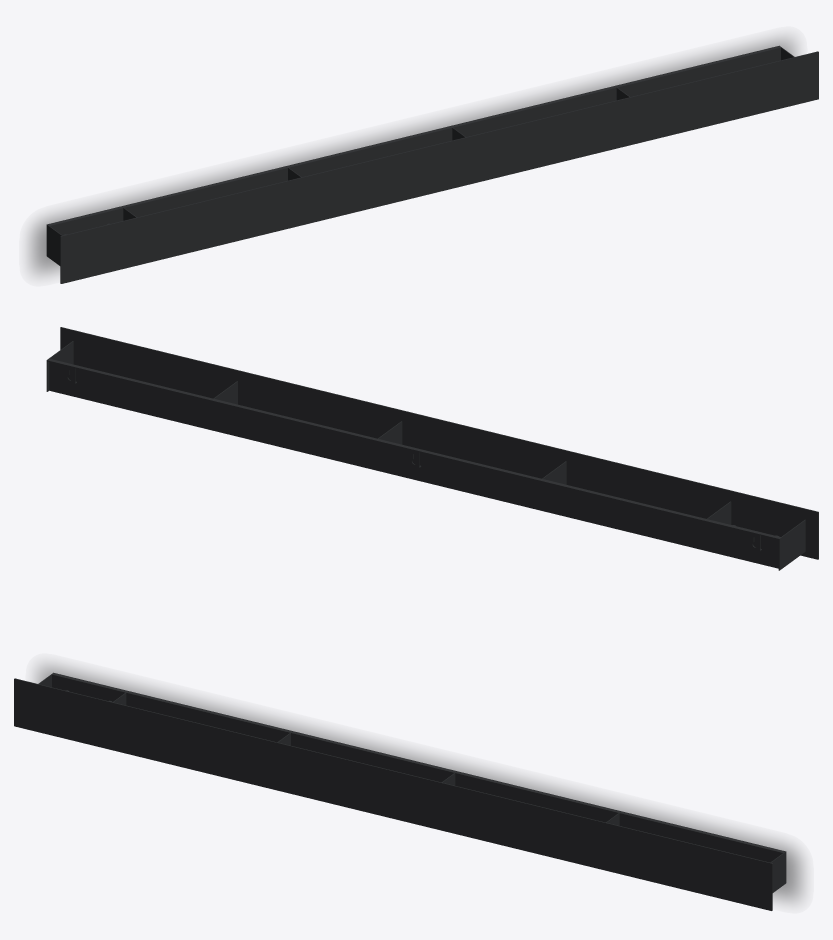
File: skyline-patron.f8a80672ad.ar.glb
3 views of the same model, one above another, from view 1: azimuth 30°, elevation 25°; view 2: azimuth 150°, elevation 25°; view 3: azimuth 330°, elevation 25° (orthographic).
Parts seen in each view (by area): view 1: NAUO1, object 2; view 2: NAUO1; view 3: NAUO1, object 2.
Boxes of the visible parts, bbox=[...] form: NAUO1: bbox=[46, 45, 818, 283]; object 2: bbox=[29, 38, 797, 274]; NAUO1: bbox=[46, 327, 818, 570]; NAUO1: bbox=[14, 672, 786, 910]; object 2: bbox=[35, 665, 803, 901].
Size of the model in its own units: 1.58 by 0.17 by 0.092.
Materials: 2 (1 with a texture image).
